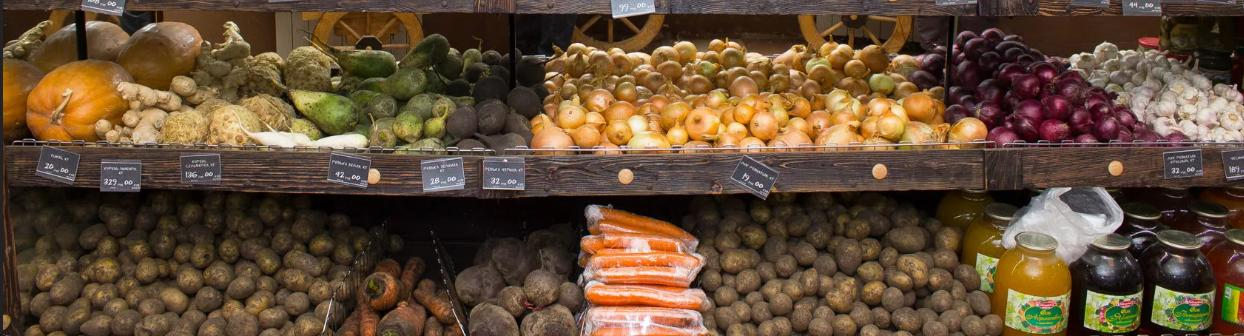beet: (454, 224, 583, 336), (452, 56, 547, 162)
carrot: (577, 204, 707, 336), (334, 255, 469, 336)
garlic: (1069, 39, 1244, 145)
ginger: (101, 78, 211, 147), (199, 20, 251, 96)
onion: (538, 39, 970, 162), (941, 29, 1117, 147)
potato: (34, 200, 371, 334), (704, 206, 996, 336)
pumpkin: (15, 58, 127, 149), (49, 22, 197, 82)
